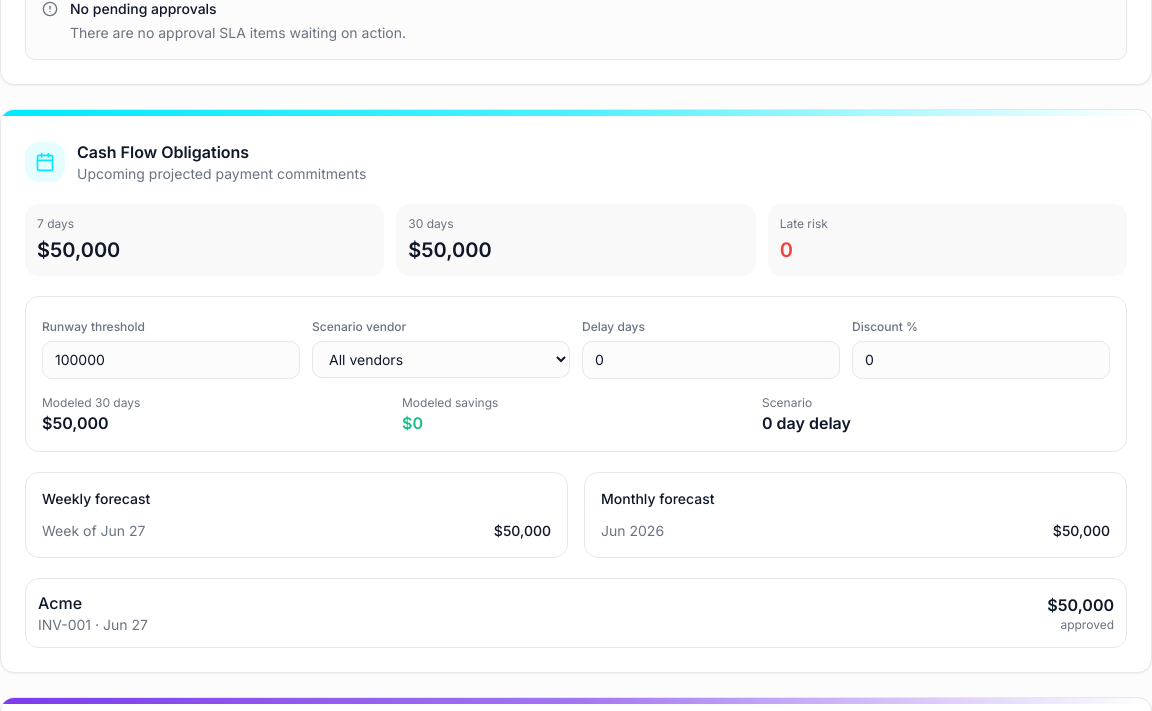
Test: ReportsPage Predictive Insights › models threshold warnings and scenario discounts client-side
(page scrolled)
Expected: the text "Modeled 30 days" is shown, [42,395,140,410]
Replace the text in the field labelled "Runway threshold" with "40000". click: (171, 360)
box: [42,341,300,379]
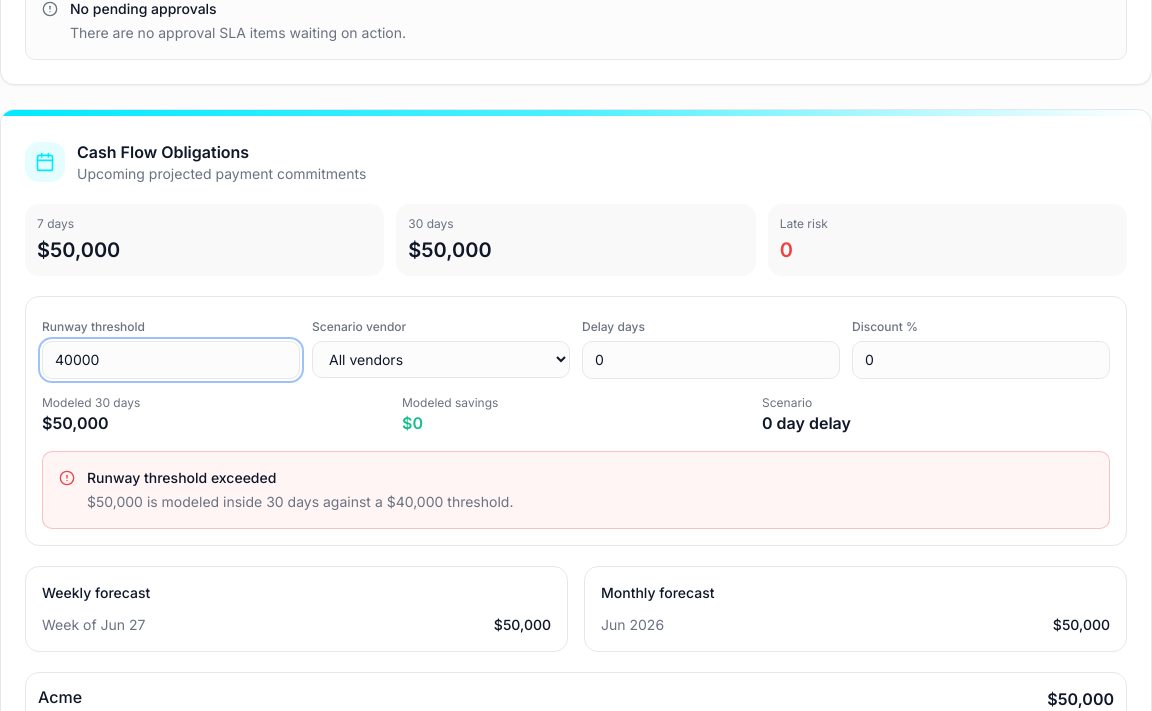
Expected: the text "Runway threshold exceeded" is shown, [87,469,276,486]
Replace the text in the field labelled "Discount %" with "10". click: (981, 360)
box: [852,341,1110,379]
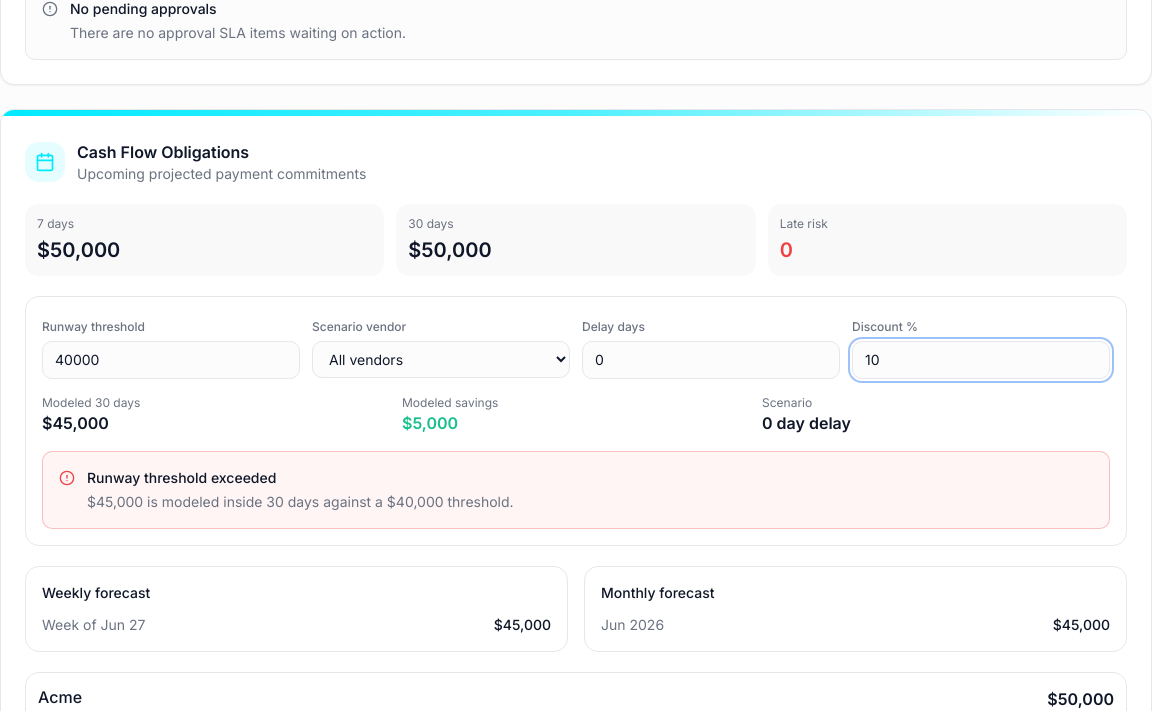
Expected: the text "$5,000" is shown, [402,413,458,433]
